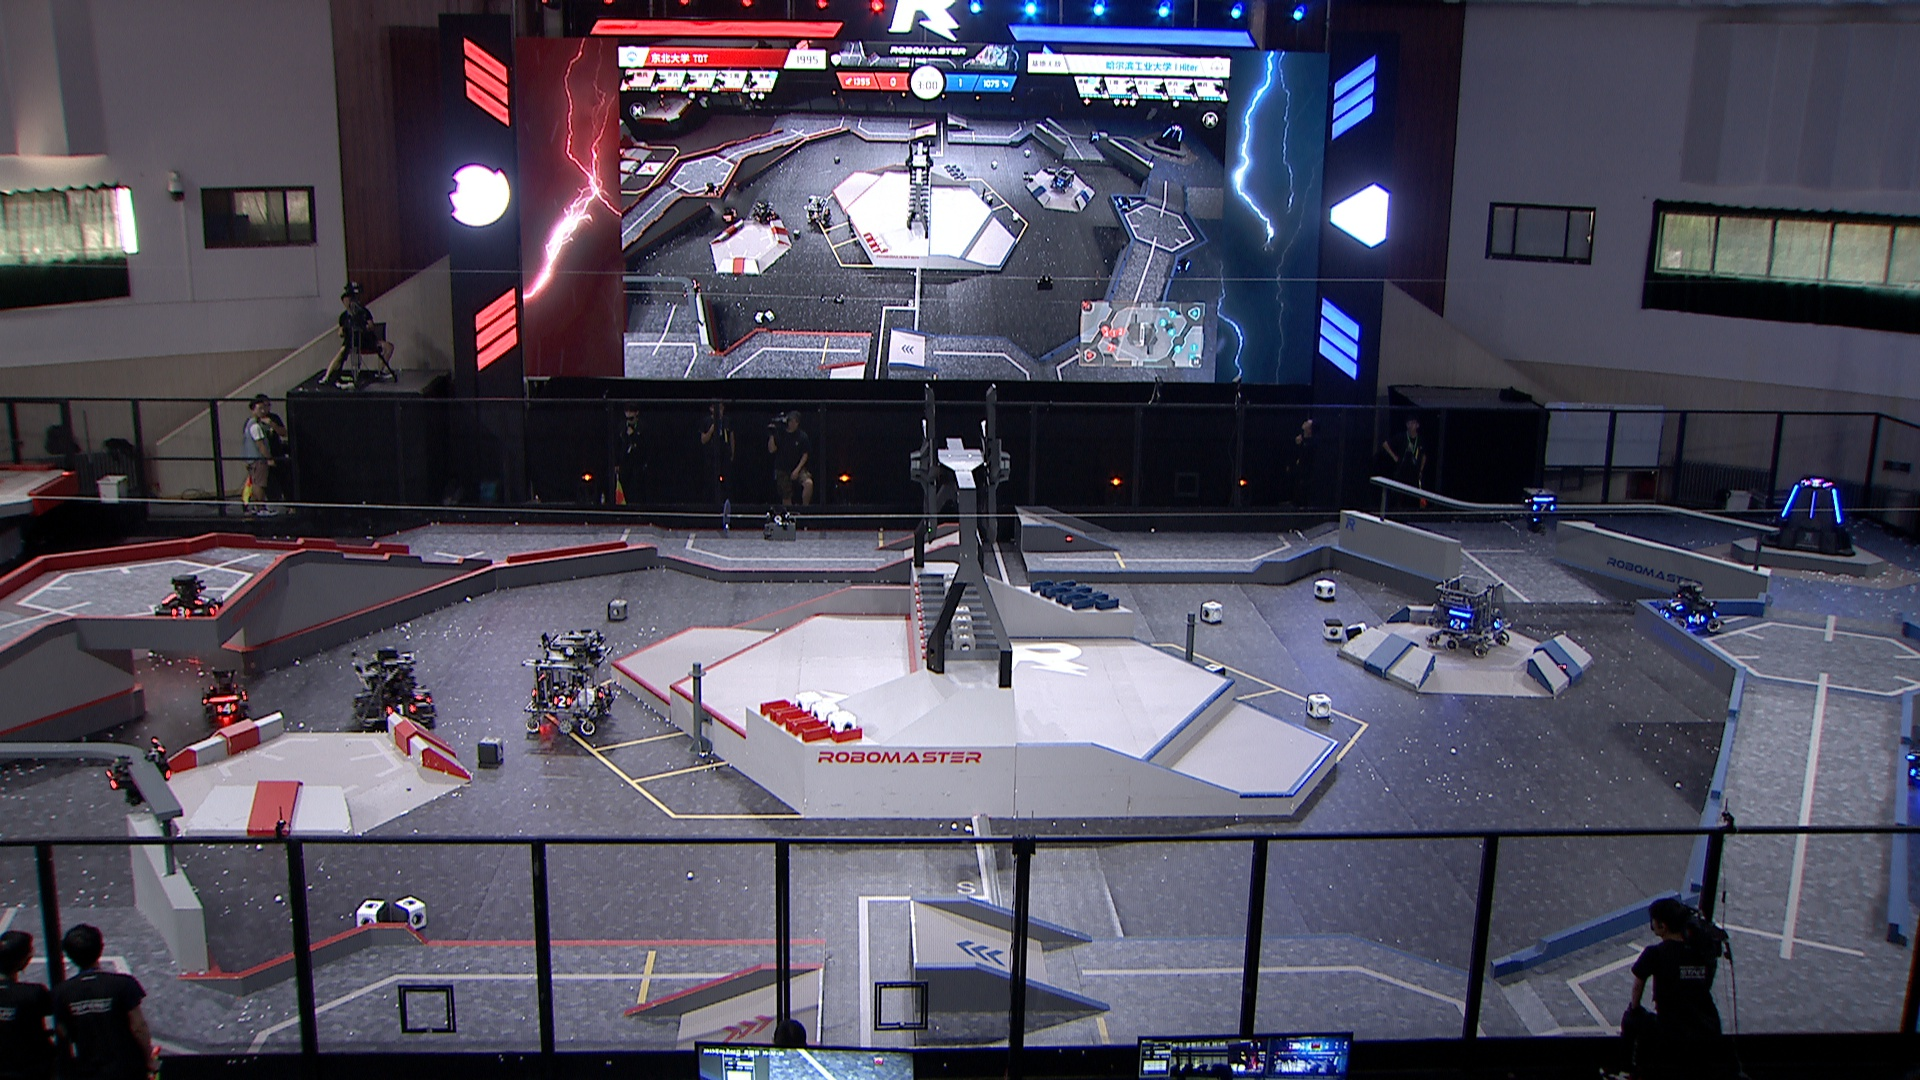armor: (1828, 487, 1846, 526), (1782, 483, 1803, 517), (385, 699, 419, 717), (102, 766, 121, 793), (1807, 489, 1821, 524), (212, 700, 237, 717), (1447, 616, 1472, 633), (1664, 593, 1684, 613), (171, 603, 193, 621), (550, 694, 572, 711), (191, 589, 210, 608), (208, 599, 225, 618), (1532, 501, 1556, 514), (1687, 611, 1706, 626), (1656, 605, 1673, 622), (595, 684, 609, 703), (1491, 612, 1505, 632)
base: (1754, 475, 1859, 556)
car: (513, 628, 621, 741), (344, 640, 446, 737), (1422, 568, 1513, 659), (1651, 582, 1727, 642), (154, 570, 229, 626), (193, 666, 255, 723)
ignore: (800, 193, 835, 229), (1048, 164, 1077, 193), (752, 196, 779, 225), (1156, 125, 1187, 150), (716, 200, 740, 228), (1803, 475, 1836, 491)
watcher: (100, 732, 177, 811), (1520, 485, 1563, 538)
